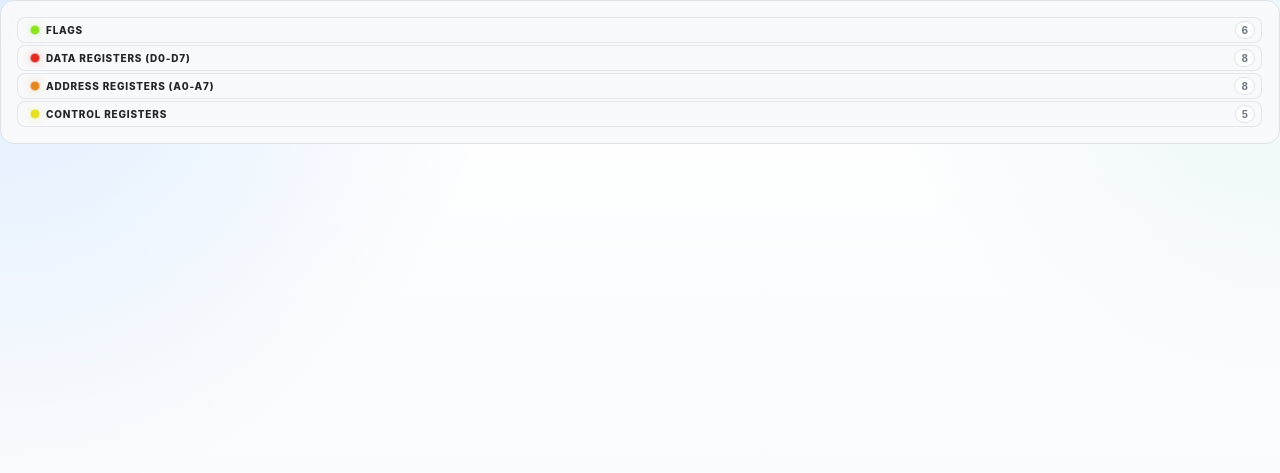
it: Registers › increments and decrements the selected lower hex nibble with arrow keys
Click the button "Data Registers (D0-D7) 8": (118, 58) [17,45,1262,71]
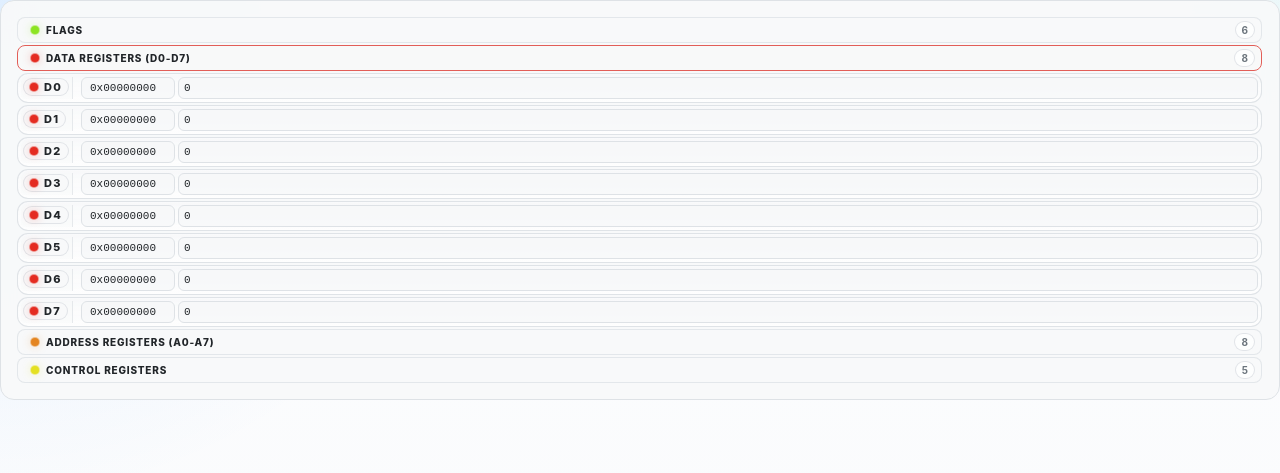
Click the button named "Toggle D0 register view": (46, 87) [23,78,69,96]
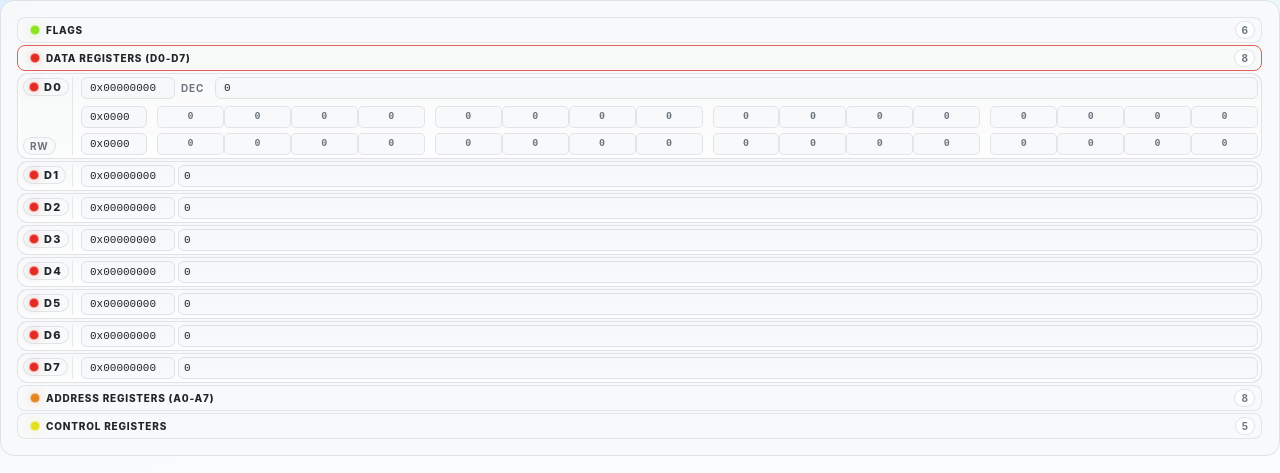
Focus the field named "D0 row 2 hex input": (114, 144) [81,133,147,155]
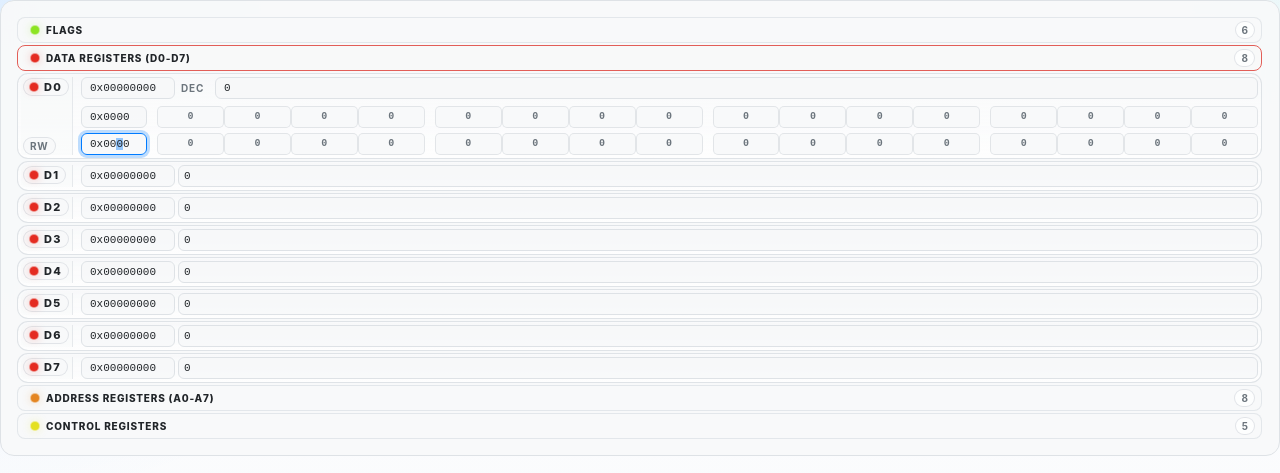
Press ArrowUp in the field named "D0 row 2 hex input", box [81,133,147,155]
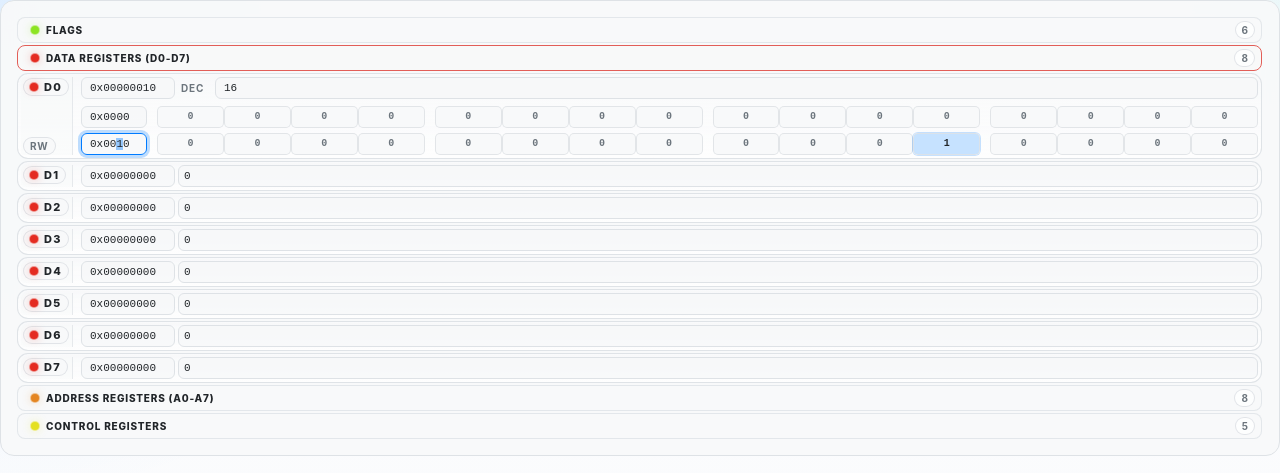
Check: the field named "D0 row 2 hex input" holds "0x0010"
Press ArrowDown in the field named "D0 row 2 hex input", box [81,133,147,155]
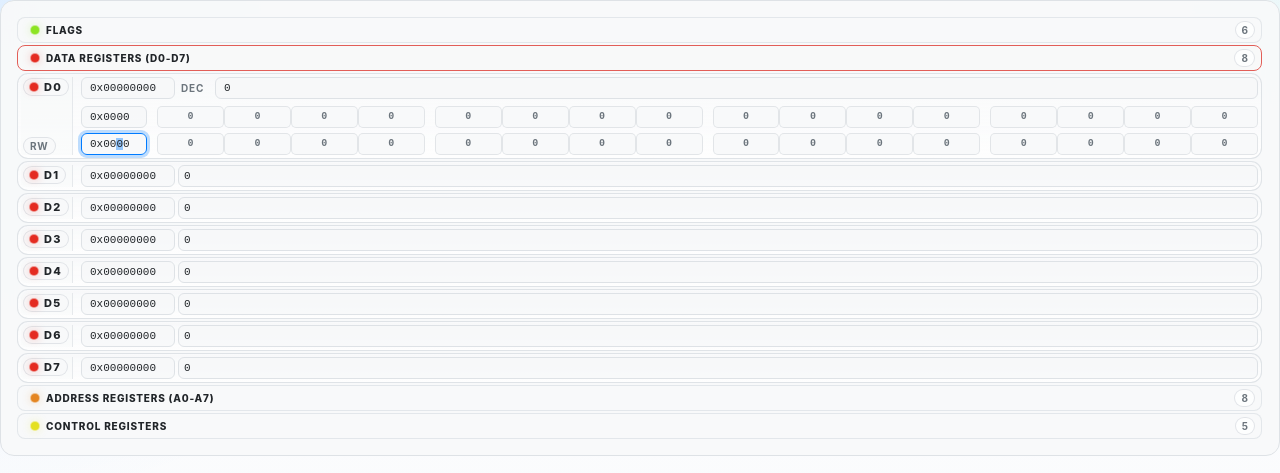
Check: the field named "D0 row 2 hex input" holds "0x0000", box [81,133,147,155]
